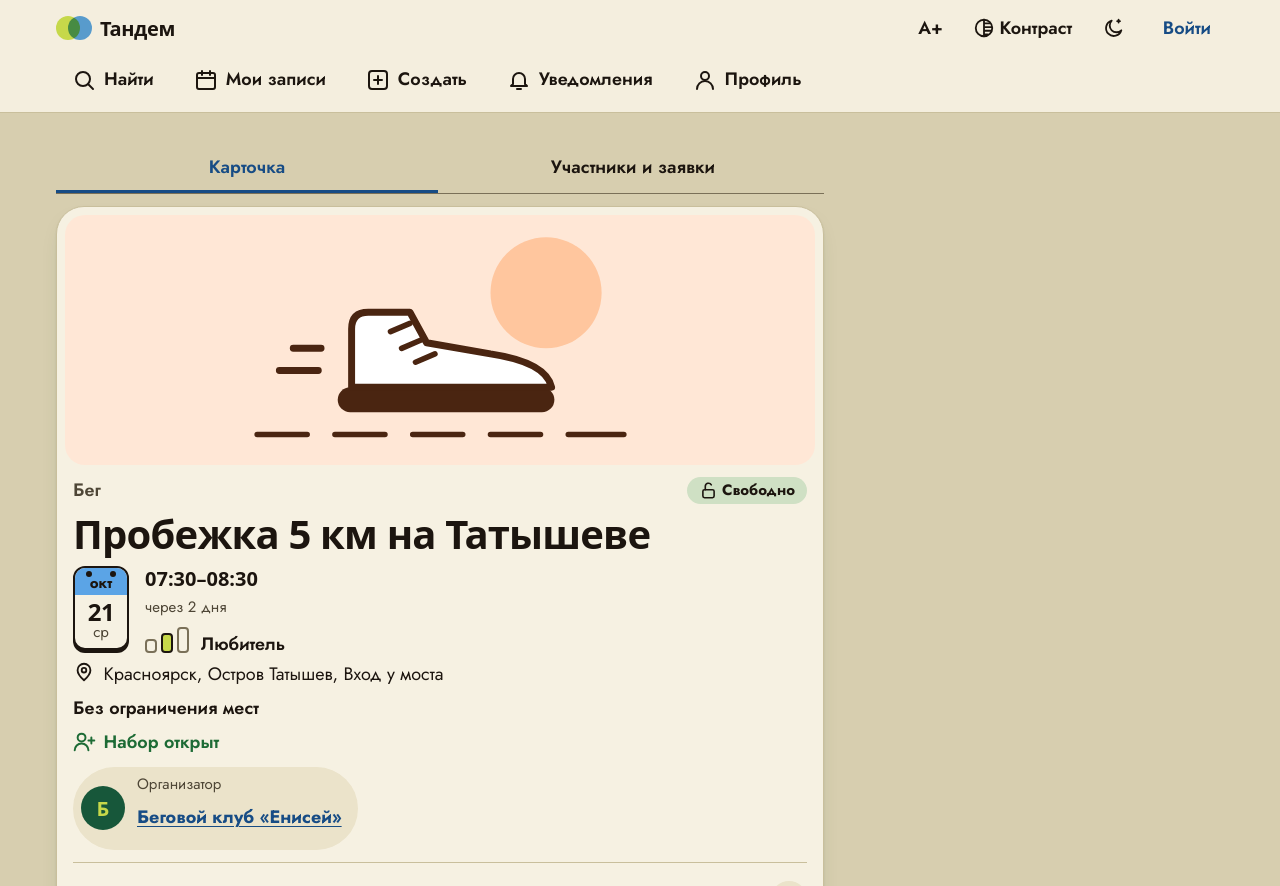
карточка мероприятия › «Участники и заявки»: разделы, ответ на вопрос, «Принять» и «Отклонить» с причиной
Click the tab "Участники и заявки". click: (633, 169)
box: [442, 145, 824, 193]
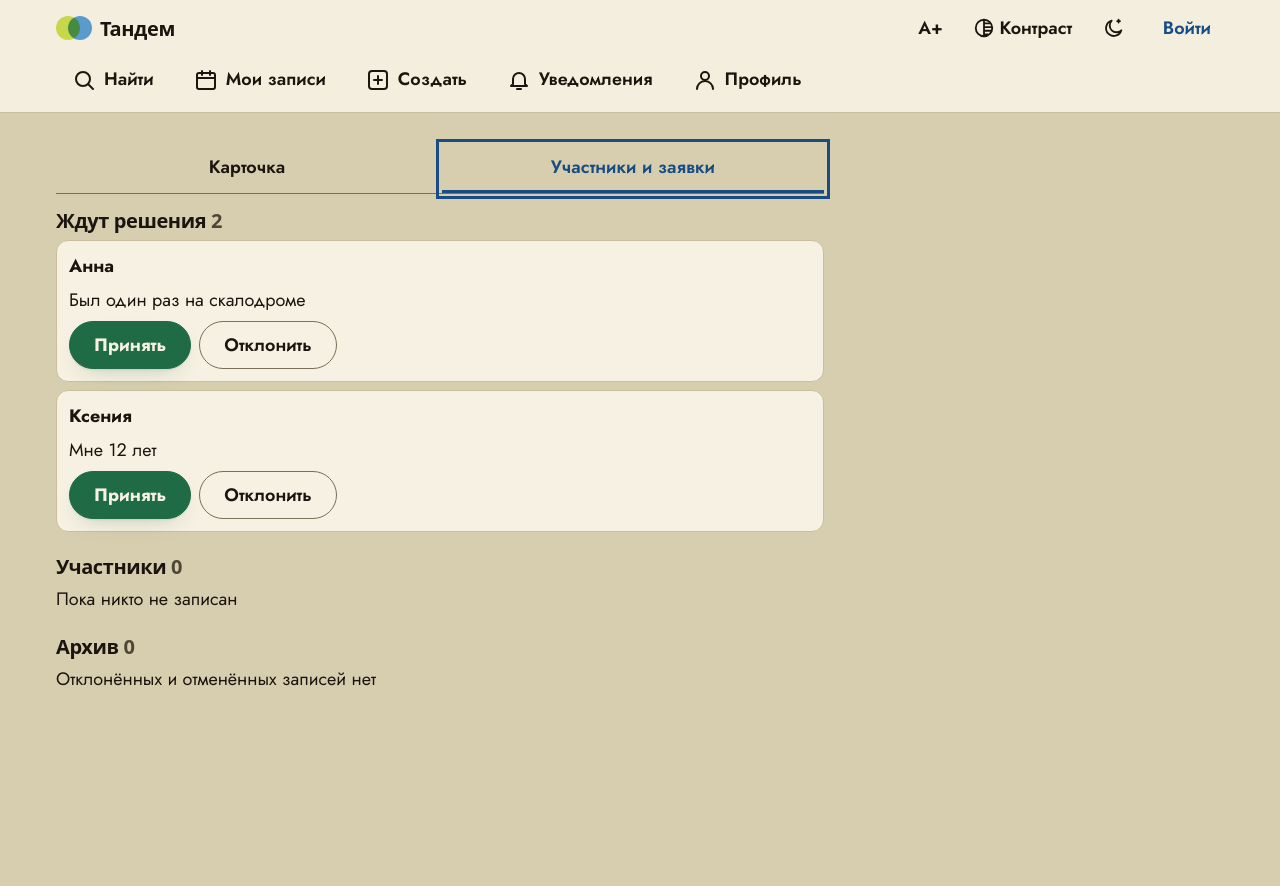
Now the text "Был один раз на скалодроме" is shown, box [68, 286, 306, 313]
Click the button "Принять" below "Анна". click: (130, 345)
box: [69, 321, 191, 369]
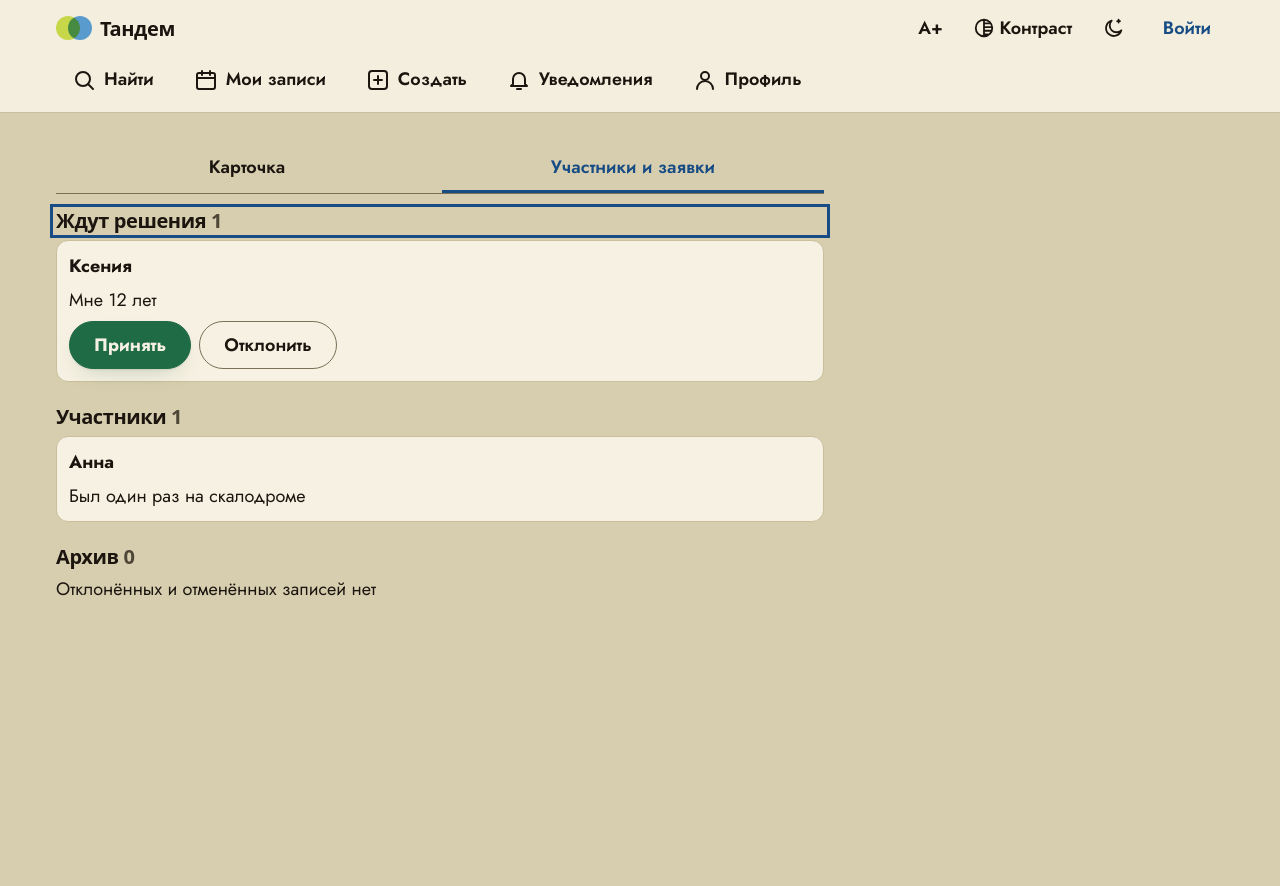
Now the text "Анна" is shown, box [69, 449, 114, 475]
# «Отмена» закрывает форму причины и возвращает фокус на «Отклонить»
Click the button "Отклонить". click: (268, 345)
box: [199, 321, 337, 369]
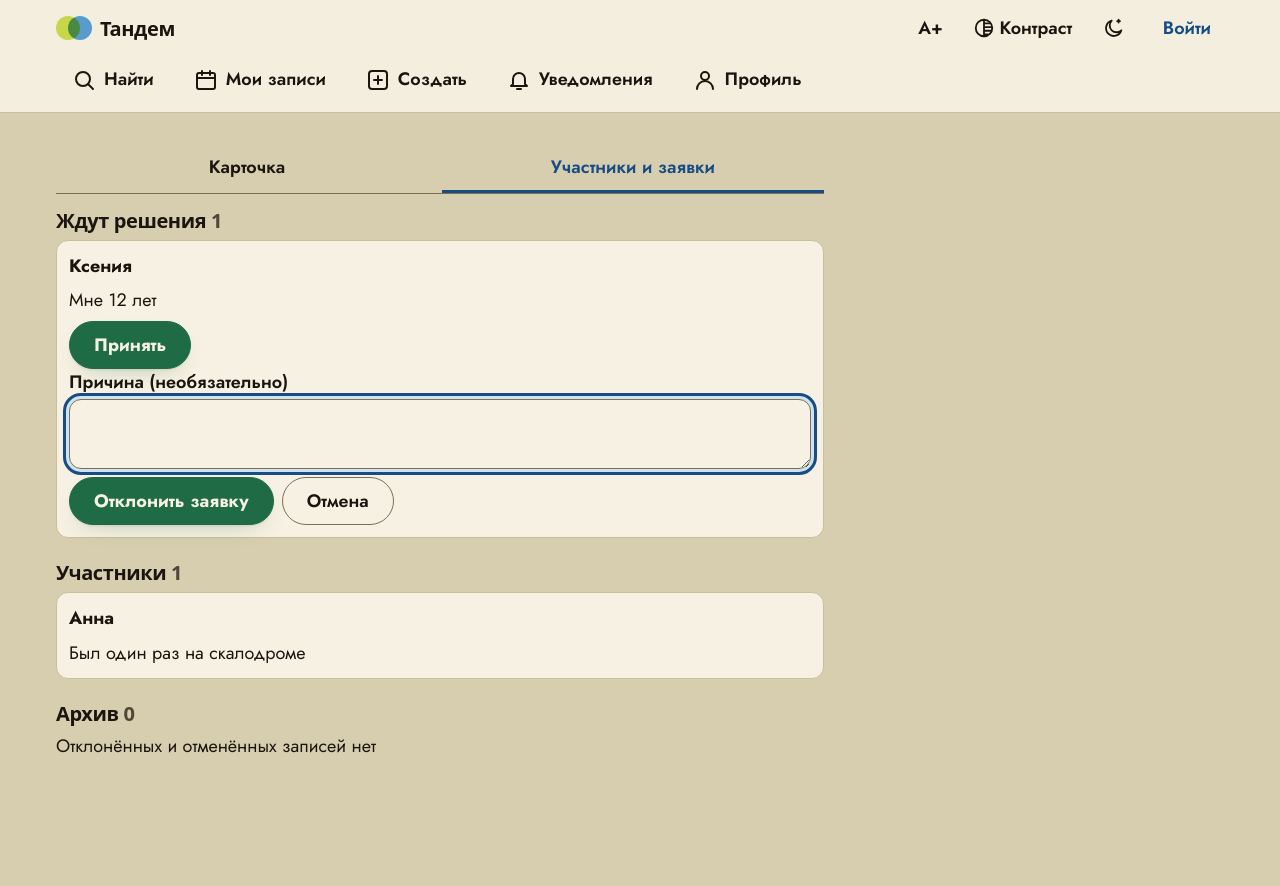
Click the button "Отмена". click: (338, 502)
box: [282, 478, 394, 526]
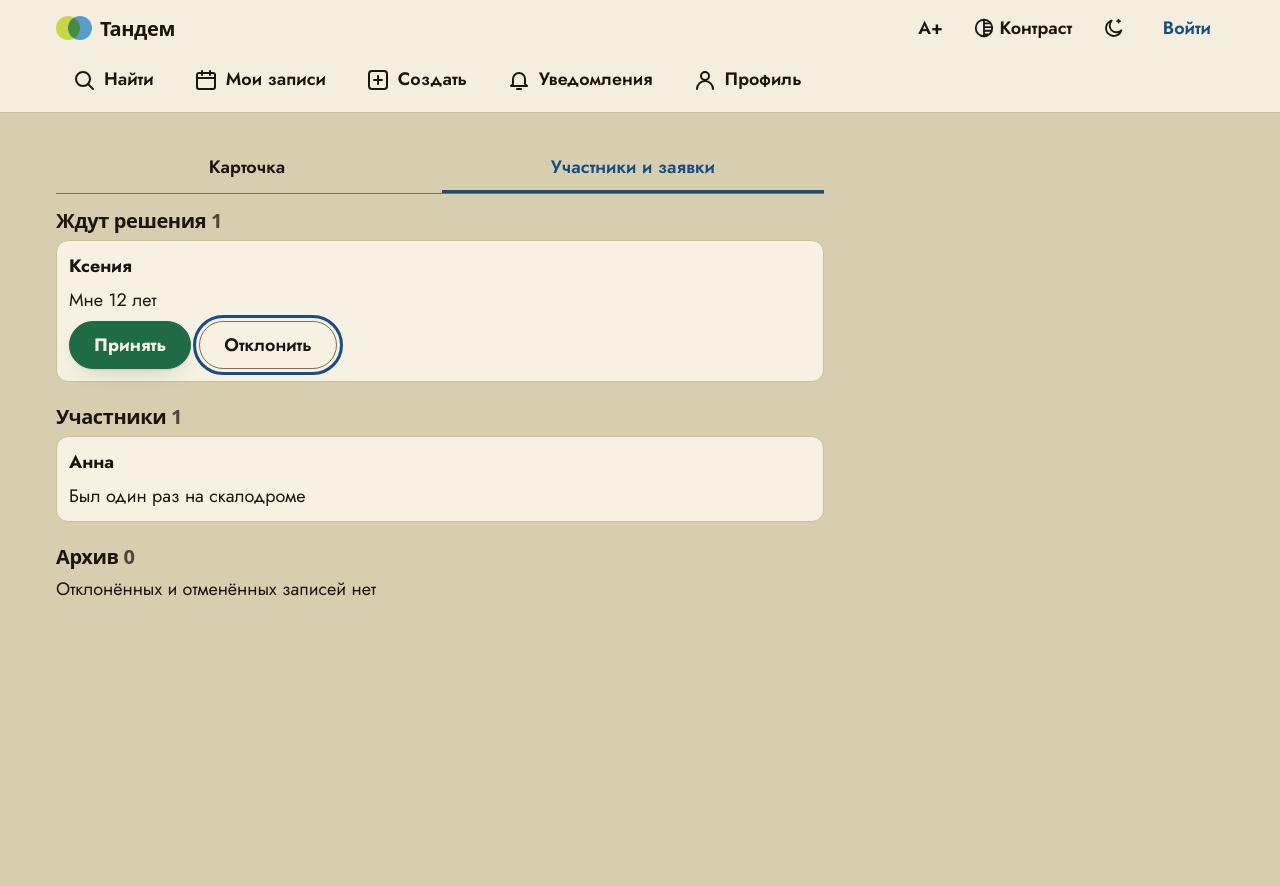
Click the button "Отклонить". click: (268, 345)
box: [199, 321, 337, 369]
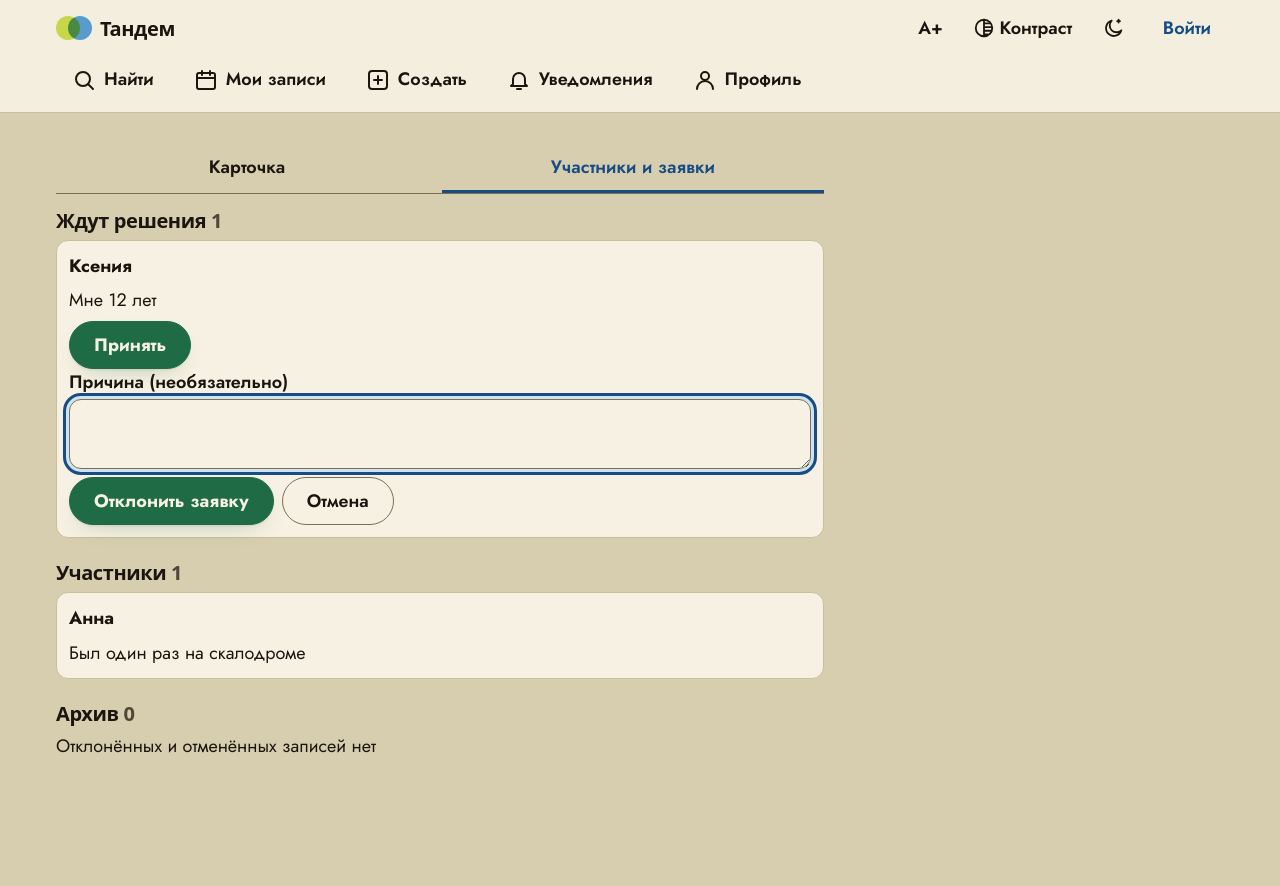
Type "Детская группа — по субботам" into the text box labelled "Причина (необязательно)". click: (440, 434)
box: [69, 399, 811, 470]
Click the button "Отклонить заявку". click: (171, 502)
box: [69, 478, 274, 526]
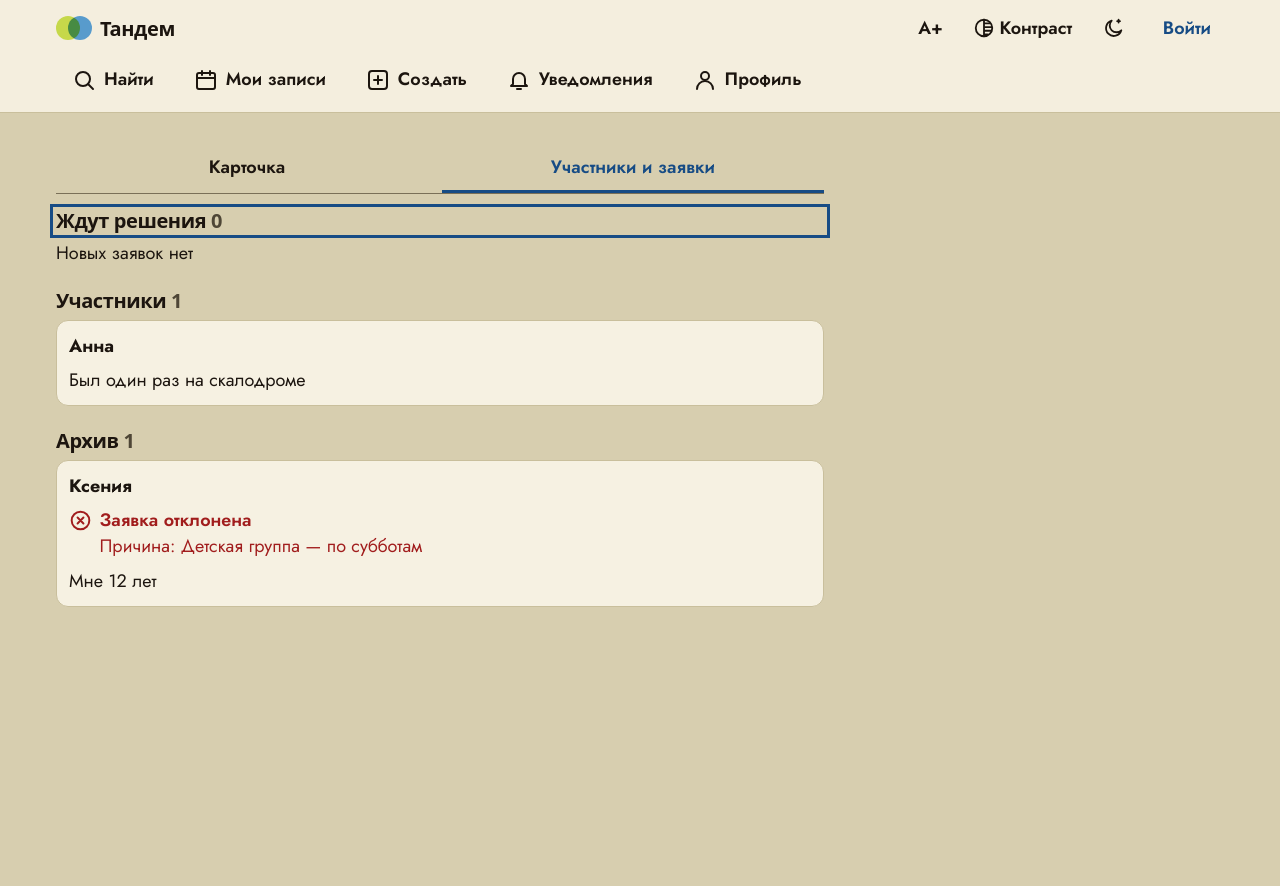
Now the text "Ксения" is shown, box [69, 473, 132, 499]
Now the text "Причина: Детская группа — по субботам" is shown, box [100, 534, 422, 560]
